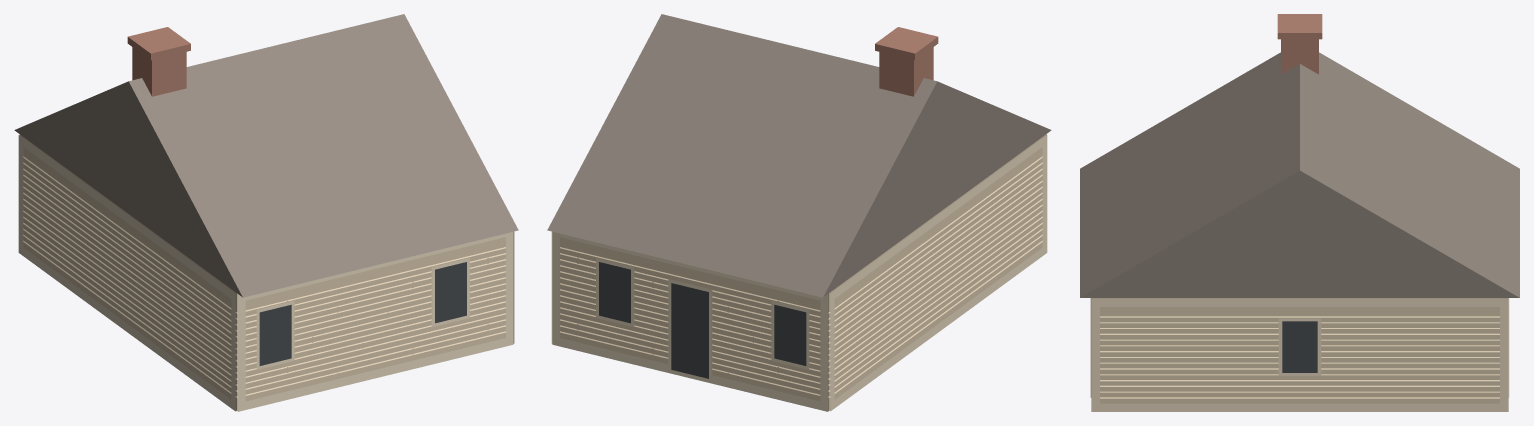
Rendered from recon_1835_blk_randolph_market_d5_01__inferred_1835.glb.
3 renders of one model, left to right at view 1: azimuth 30°, elevation 25°; view 2: azimuth 150°, elevation 25°; view 3: azimuth 270°, elevation 25°, orthographic. The views are drawn at different scales.
Parts seen in each view (by area): view 1: recon_1835_blk_randolph_market_d5_01__inferred_1835; view 2: recon_1835_blk_randolph_market_d5_01__inferred_1835; view 3: recon_1835_blk_randolph_market_d5_01__inferred_1835.
Boxes of the visible parts, x1,y1,x2,y2 form: recon_1835_blk_randolph_market_d5_01__inferred_1835: [14, 14, 518, 411]; recon_1835_blk_randolph_market_d5_01__inferred_1835: [547, 14, 1051, 411]; recon_1835_blk_randolph_market_d5_01__inferred_1835: [1080, 14, 1519, 411].
Bounding box in the file's own units: 6.8 × 6.61 × 9.65.
